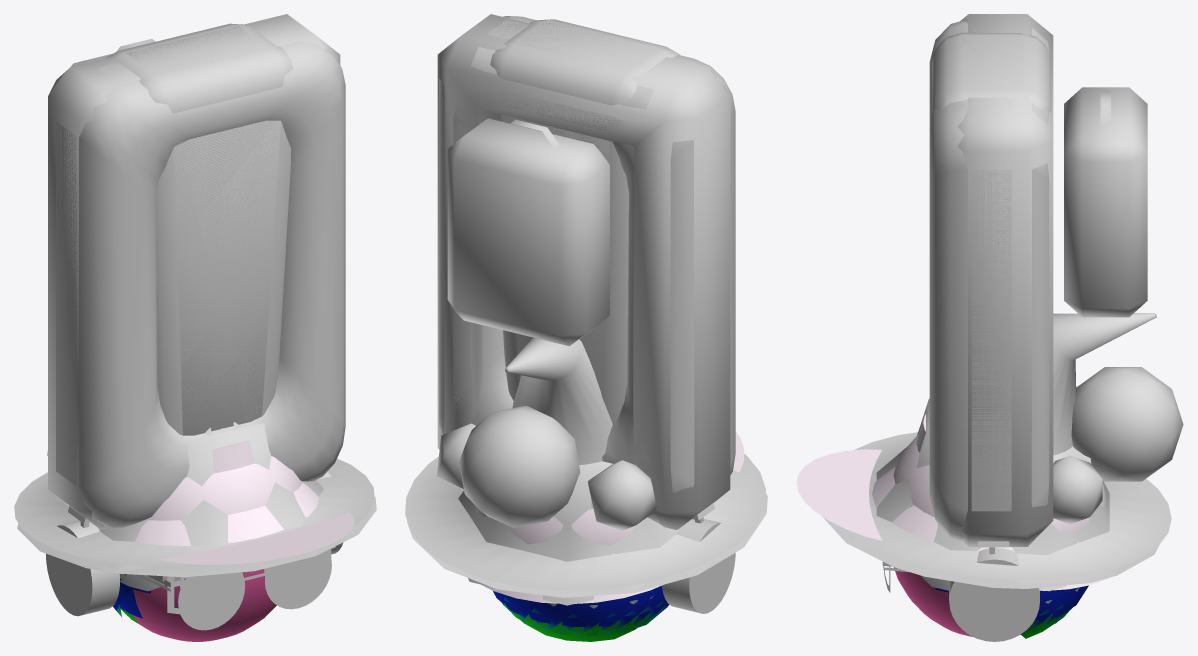
File: user-ex.glb
3 views of the same model, side by side, from view 1: azimuth 30°, elevation 25°; view 2: azimuth 150°, elevation 25°; view 3: azimuth 270°, elevation 25° (orthographic). The views are drawn at different scales.
Visible parts, largest first — view 1: 0-low, 1-low, 1-B-low, 0-B-low, hat3-low, eyeglass1-low, hat2-B-low, hat1-B-low, head-low, hat1-low, headphones-low, hat3-B-low (+1 smaller); view 2: 0-B-low, backpack-low, 0-low, hat3-low, 1-low, woman-low, woman2-low, hat1-B-low, headphones-low, hat3-B-low, man2-low, hat2-B-low (+3 smaller); view 3: 0-low, 0-B-low, backpack-low, hat3-low, woman-low, 1-low, hat2-B-low, headphones-low, hat1-B-low, woman2-low, hat3-B-low, hat1-low (+3 smaller).
Boxes of the visible parts, bbox=[...] form: 0-low: bbox=[56, 25, 345, 527]; 1-low: bbox=[105, 23, 292, 435]; 1-B-low: bbox=[126, 26, 280, 435]; 0-B-low: bbox=[48, 14, 340, 529]; hat3-low: bbox=[14, 428, 374, 567]; eyeglass1-low: bbox=[135, 550, 331, 630]; hat2-B-low: bbox=[146, 456, 354, 564]; hat1-B-low: bbox=[100, 423, 323, 547]; head-low: bbox=[119, 569, 276, 641]; hat1-low: bbox=[98, 440, 318, 545]; headphones-low: bbox=[46, 471, 343, 616]; hat3-B-low: bbox=[17, 422, 376, 577]; 0-B-low: bbox=[437, 14, 730, 529]; backpack-low: bbox=[447, 118, 609, 346]; 0-low: bbox=[439, 16, 735, 522]; hat3-low: bbox=[405, 337, 765, 590]; 1-low: bbox=[490, 19, 679, 423]; woman-low: bbox=[459, 405, 653, 608]; woman2-low: bbox=[436, 423, 661, 626]; hat1-B-low: bbox=[458, 461, 676, 605]; headphones-low: bbox=[662, 503, 735, 613]; hat3-B-low: bbox=[407, 339, 767, 597]; man2-low: bbox=[498, 588, 667, 641]; hat2-B-low: bbox=[475, 431, 744, 545]; 0-low: bbox=[929, 20, 1049, 540]; 0-B-low: bbox=[958, 14, 1053, 546]; backpack-low: bbox=[1064, 87, 1147, 317]; hat3-low: bbox=[841, 313, 1171, 580]; woman-low: bbox=[920, 367, 1183, 603]; 1-low: bbox=[932, 32, 1051, 114]; hat2-B-low: bbox=[796, 434, 1106, 539]; headphones-low: bbox=[949, 541, 1039, 641]; hat1-B-low: bbox=[876, 398, 1109, 591]; woman2-low: bbox=[1039, 386, 1102, 617]; hat3-B-low: bbox=[822, 313, 1158, 588]; hat1-low: bbox=[872, 414, 1108, 590].
Size of the model in its own units: 0.542 by 0.9618 by 0.5947.
